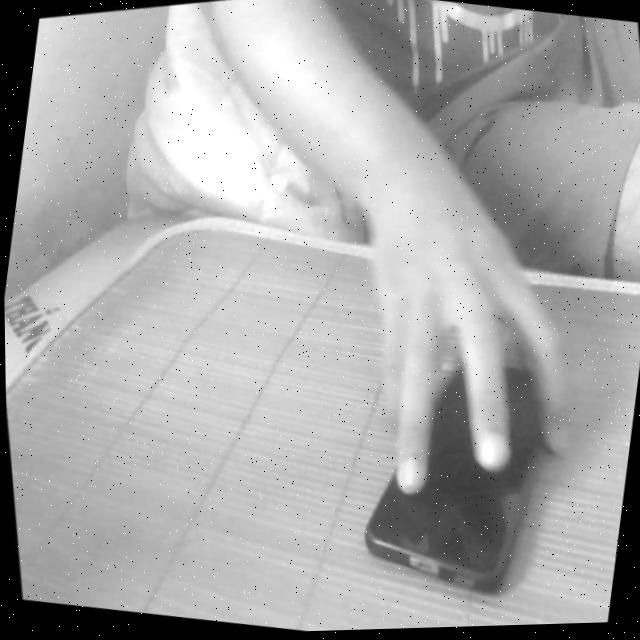phone: (299, 270, 621, 633)
